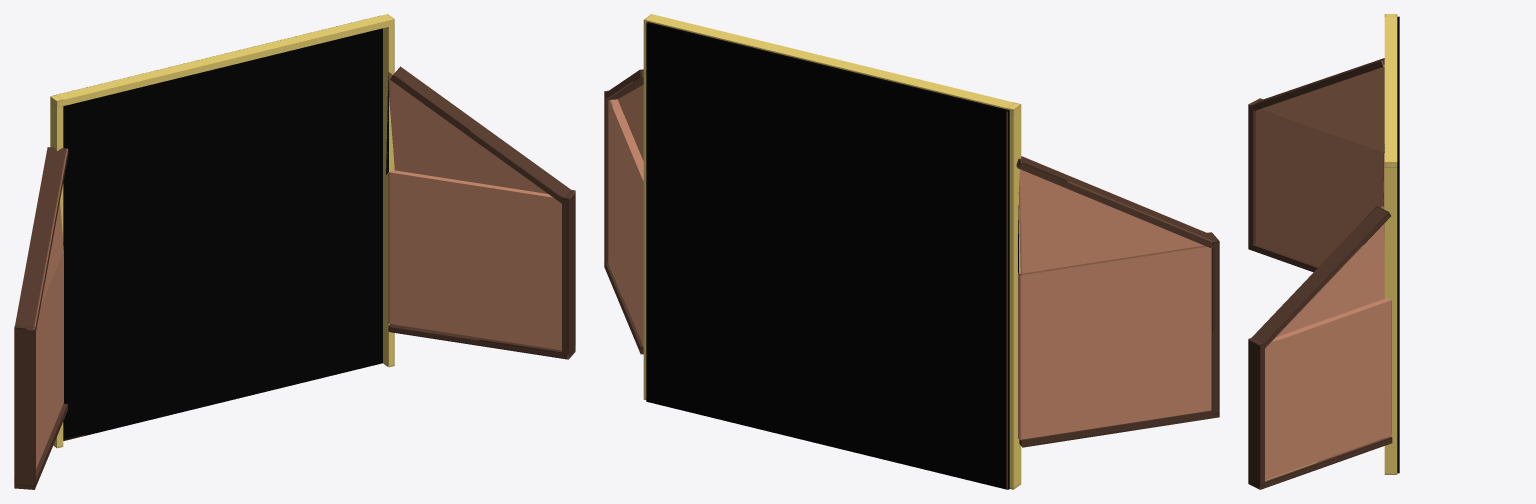
The model's file is Door.obj.
3 renders of one model, left to right at view 1: azimuth 30°, elevation 25°; view 2: azimuth 150°, elevation 25°; view 3: azimuth 270°, elevation 25°, orthographic. The views are drawn at different scales.
Visible parts, largest first — view 1: cube, pyramid; view 2: cube, pyramid; view 3: cube, pyramid.
Boxes of the visible parts, box(x1,y1,x2,y2) form: cube: box(14, 14, 575, 489); pyramid: box(40, 72, 547, 306); cube: box(604, 14, 1219, 489); pyramid: box(618, 84, 1203, 273); cube: box(1248, 14, 1399, 489); pyramid: box(1260, 66, 1384, 336).
Bounding box in the file's own units: 9.32 × 5.5 × 4.37.
